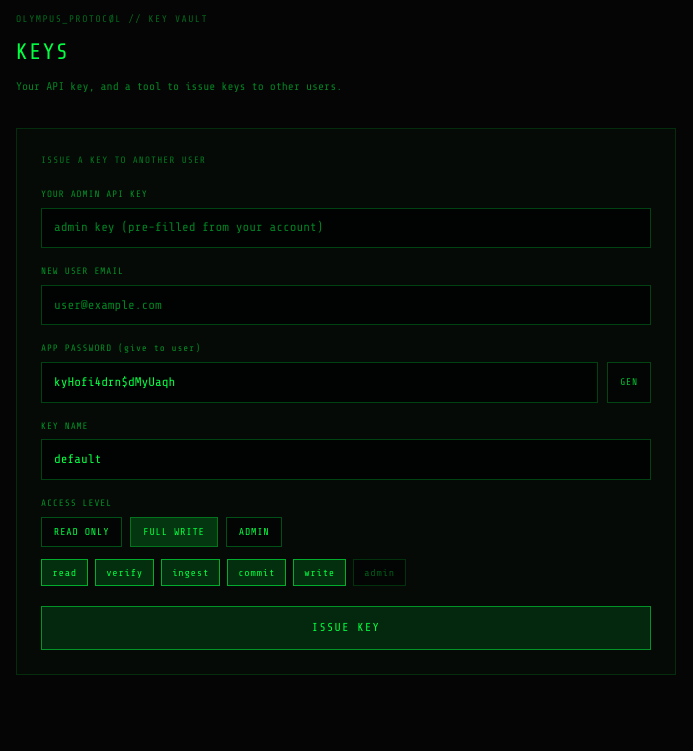
Scenario: <AdminPage> › validates that admin key is required before issuing
The width and height of the screenshot is (693, 751).
Click the button "ISSUE KEY". click: (346, 628)
box: [41, 606, 651, 650]
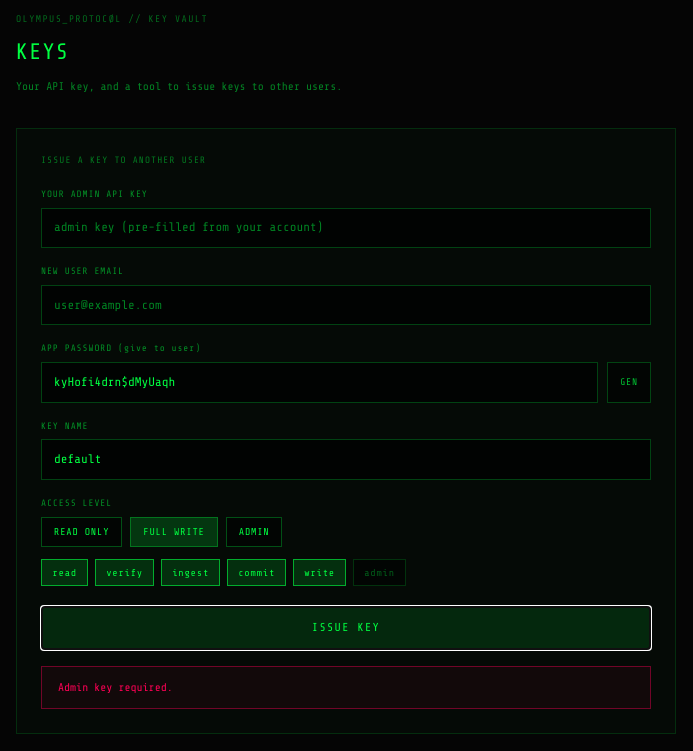
Now the text "Admin key required." is shown, box [41, 666, 651, 709]
